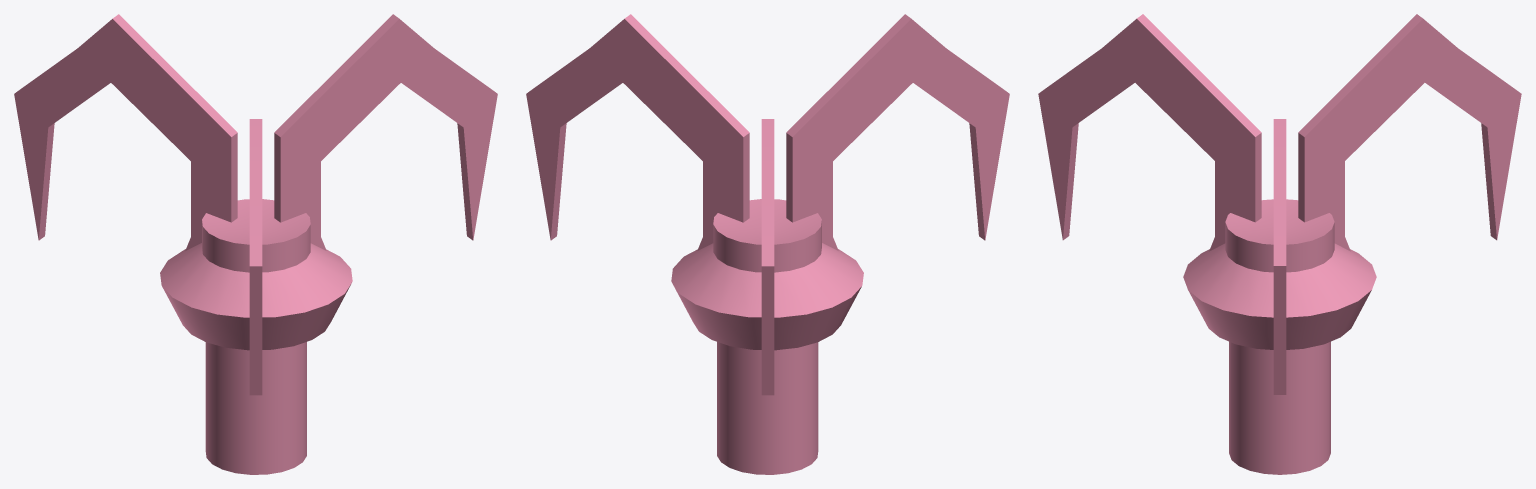
The model's file is hook.fbx.
3 renders of one model, left to right at view 1: azimuth 30°, elevation 25°; view 2: azimuth 150°, elevation 25°; view 3: azimuth 270°, elevation 25°, orthographic.
Visible parts, largest first — view 1: hook3; view 2: hook3; view 3: hook3.
Boxes of the visible parts, x1,y1,x2,y2 form: hook3: [14, 14, 497, 474]; hook3: [526, 14, 1009, 474]; hook3: [1038, 14, 1521, 474].
Size of the model in its own units: 0.1256 by 0.1333 by 0.145.
